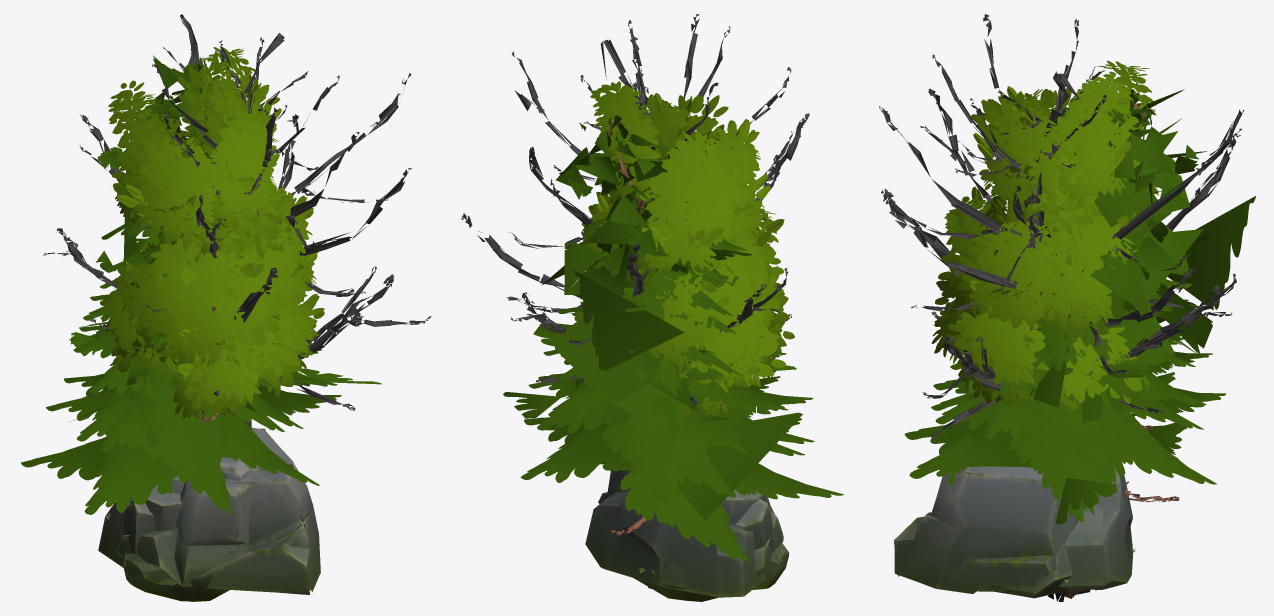
The model's file is jurassique.glb.
3 renders of one model, left to right at view 1: azimuth 30°, elevation 25°; view 2: azimuth 150°, elevation 25°; view 3: azimuth 270°, elevation 25°, orthographic. The views are drawn at different scales.
Parts seen in each view (by area): view 1: CommonTree_3, Pine_2, Rock_Medium_3, CommonTree_2, DeadTree_1, CommonTree_1, Rock_Medium_1, Pine_1, Pine_5, Rock_Medium_2; view 2: Pine_5, CommonTree_3, Pine_2, Rock_Medium_2, Pine_1, DeadTree_1, CommonTree_1, CommonTree_2, Rock_Medium_3, Rock_Medium_1; view 3: CommonTree_3, Pine_5, Pine_2, Rock_Medium_3, CommonTree_2, DeadTree_1, Pine_1, Rock_Medium_2, CommonTree_1, Rock_Medium_1.
Boxes of the visible parts, left/top/right/bottom form: CommonTree_3: left=108, top=46, right=318, bottom=372; Pine_2: left=21, top=221, right=341, bottom=514; Rock_Medium_3: left=123, top=427, right=320, bottom=601; CommonTree_2: left=100, top=152, right=324, bottom=422; DeadTree_1: left=43, top=14, right=431, bottom=427; CommonTree_1: left=106, top=205, right=301, bottom=418; Rock_Medium_1: left=115, top=456, right=296, bottom=586; Pine_1: left=46, top=196, right=321, bottom=453; Pine_5: left=69, top=50, right=381, bottom=458; Rock_Medium_2: left=98, top=484, right=182, bottom=567; Pine_5: left=503, top=115, right=802, bottom=520; CommonTree_3: left=588, top=81, right=789, bottom=388; Pine_2: left=521, top=218, right=843, bottom=561; Rock_Medium_2: left=585, top=489, right=765, bottom=597; Pine_1: left=537, top=212, right=814, bottom=536; DeadTree_1: left=461, top=14, right=809, bottom=588; CommonTree_1: left=579, top=202, right=783, bottom=422; CommonTree_2: left=564, top=152, right=794, bottom=410; Rock_Medium_3: left=598, top=470, right=789, bottom=589; Rock_Medium_1: left=609, top=487, right=783, bottom=601; CommonTree_3: left=935, top=60, right=1158, bottom=597; Pine_5: left=968, top=89, right=1255, bottom=524; Pine_2: left=904, top=154, right=1225, bottom=521; Rock_Medium_3: left=893, top=466, right=1083, bottom=593; CommonTree_2: left=931, top=153, right=1150, bottom=597; DeadTree_1: left=879, top=14, right=1244, bottom=601; Pine_1: left=933, top=209, right=1212, bottom=502; Rock_Medium_2: left=1058, top=466, right=1133, bottom=589; CommonTree_1: left=944, top=195, right=1149, bottom=430; Rock_Medium_1: left=951, top=472, right=1132, bottom=598.
Size of the model in its own units: 6.41 by 9.54 by 5.97.
41 materials, 41 textured.
